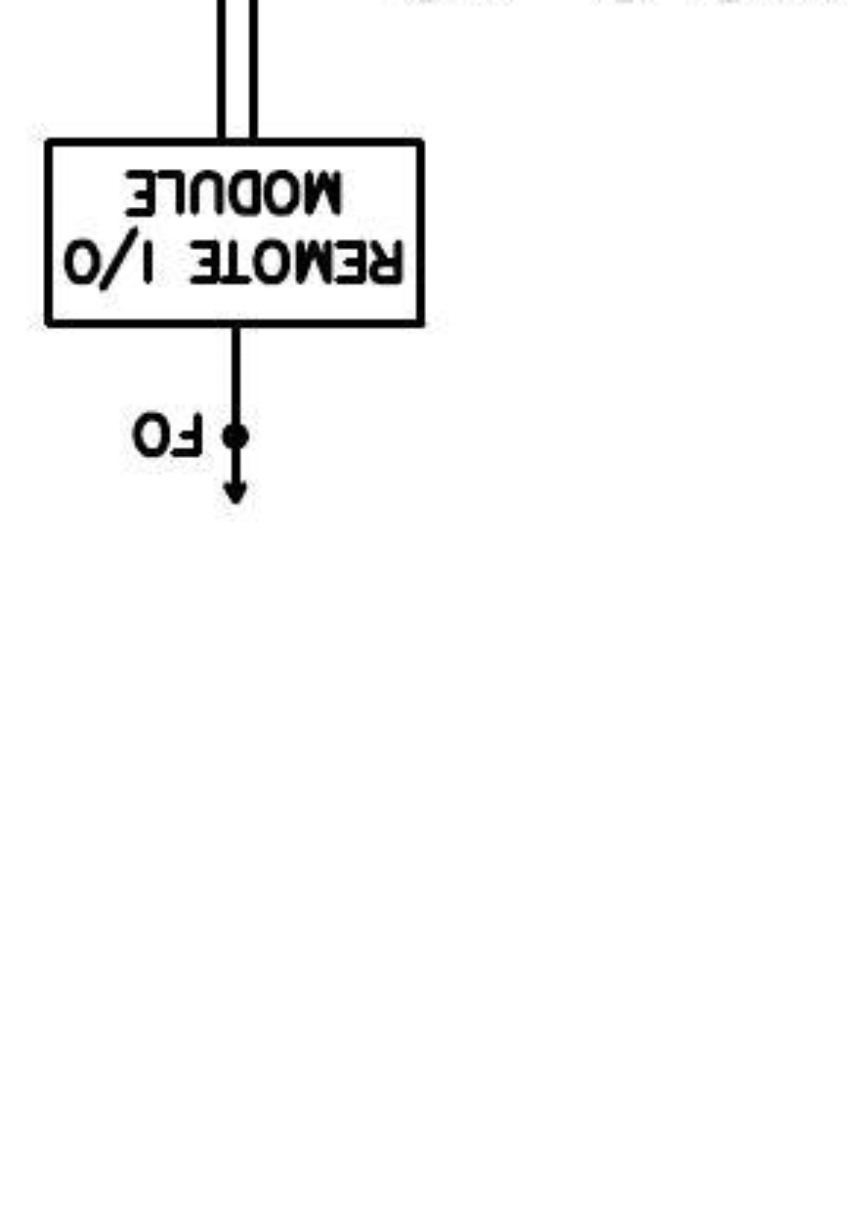remote_io_module: (43, 137, 427, 329)
